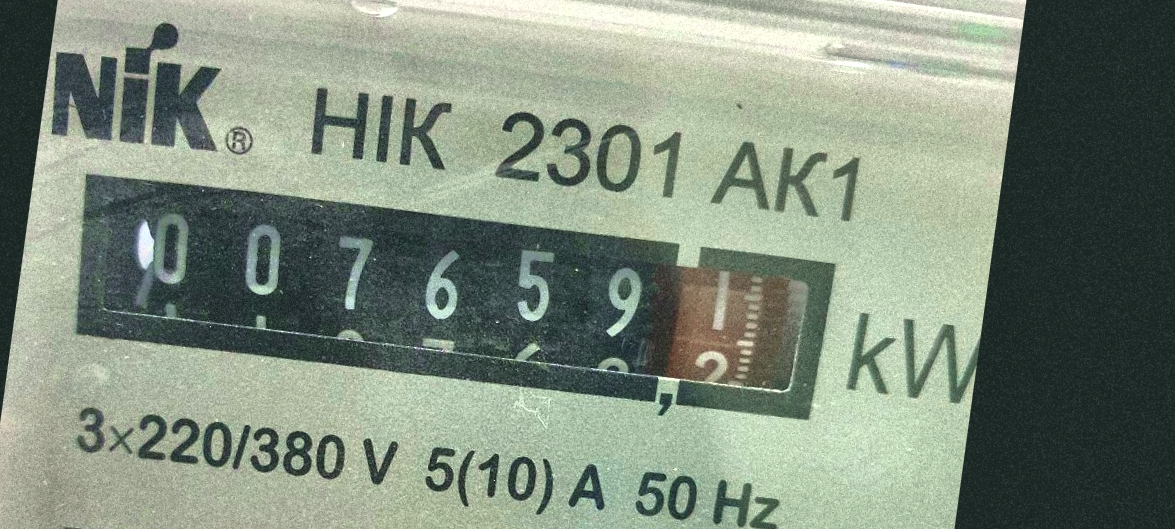0: (227, 211, 294, 304), (139, 200, 200, 296)
1: (700, 261, 743, 340)
5: (504, 240, 560, 328)
6: (410, 237, 472, 326)
7: (323, 227, 377, 317)
9: (595, 256, 648, 349)
screen: (42, 137, 857, 457)
